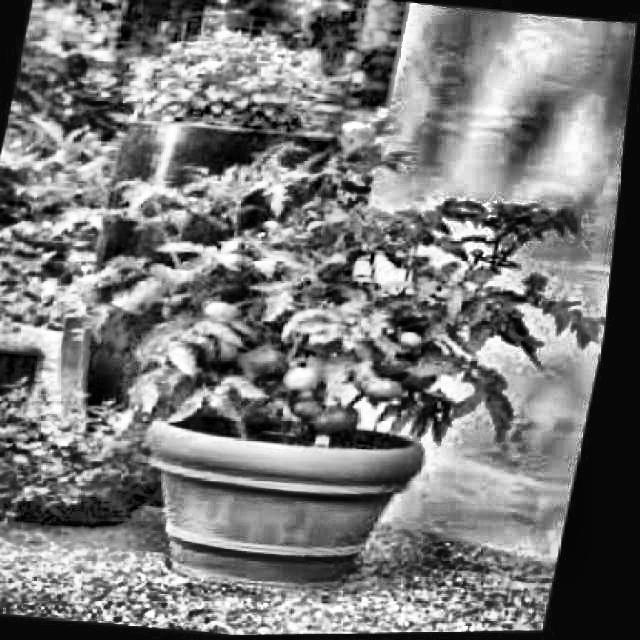plants: (40, 133, 628, 622), (86, 14, 360, 240), (0, 357, 208, 556)
